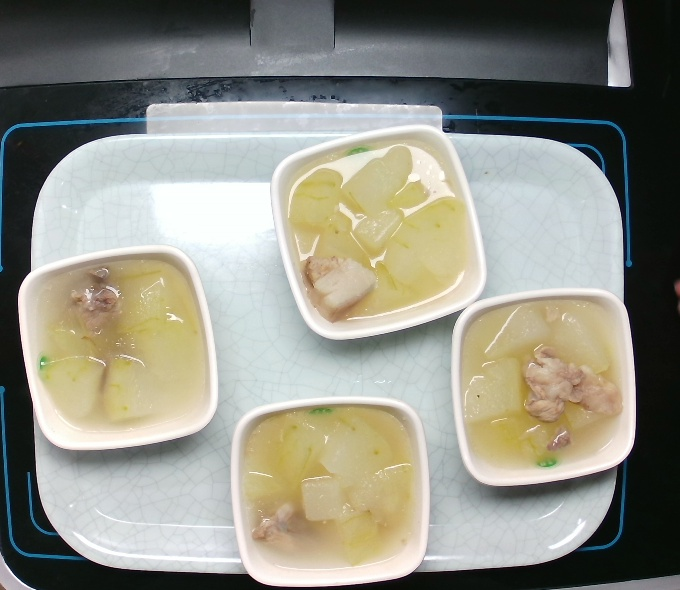wcq-DongGuaZhuRouTang: (273, 140, 477, 326), (28, 259, 211, 432), (240, 402, 423, 575), (453, 304, 636, 477)
